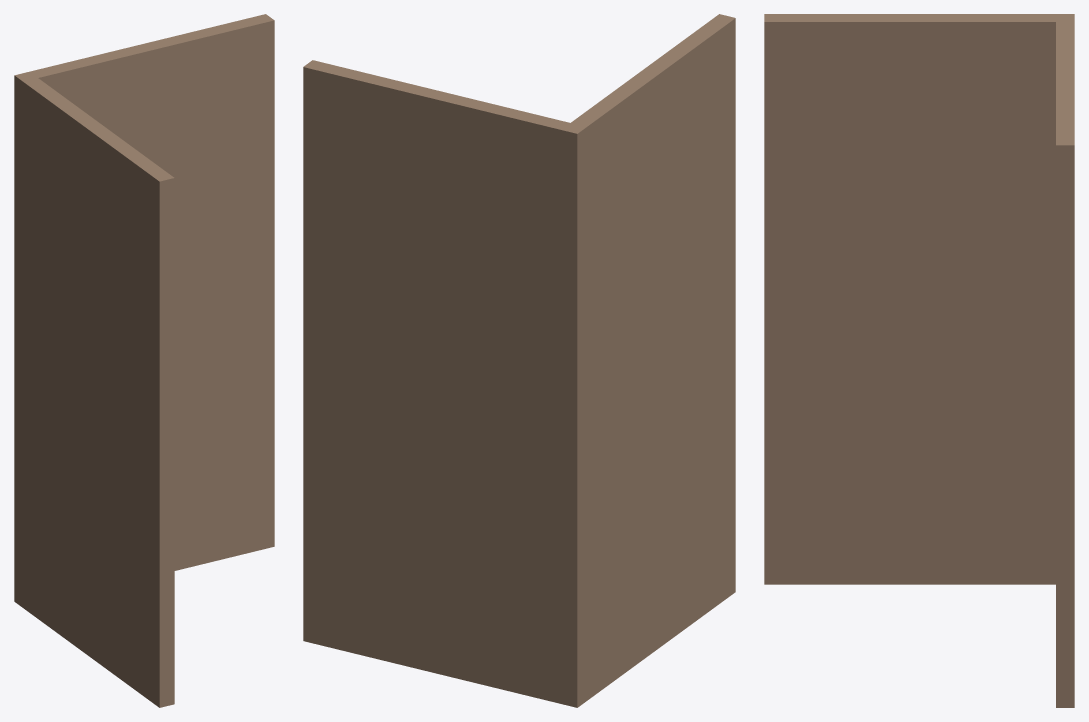
The model's file is proxy_l_bracket.glb.
3 renders of one model, left to right at view 1: azimuth 30°, elevation 25°; view 2: azimuth 150°, elevation 25°; view 3: azimuth 270°, elevation 25°, orthographic. The views are drawn at different scales.
Parts seen in each view (by area): view 1: geometry_0; view 2: geometry_0; view 3: geometry_0.
Part boxes in pixels (bbox=[...]): geometry_0: bbox=[14, 14, 274, 707]; geometry_0: bbox=[303, 14, 735, 707]; geometry_0: bbox=[764, 14, 1074, 707].
Bounding box in the file's own units: 0.05 × 0.1 × 0.05.
